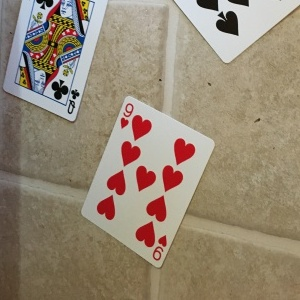card: (83, 97, 216, 269)
